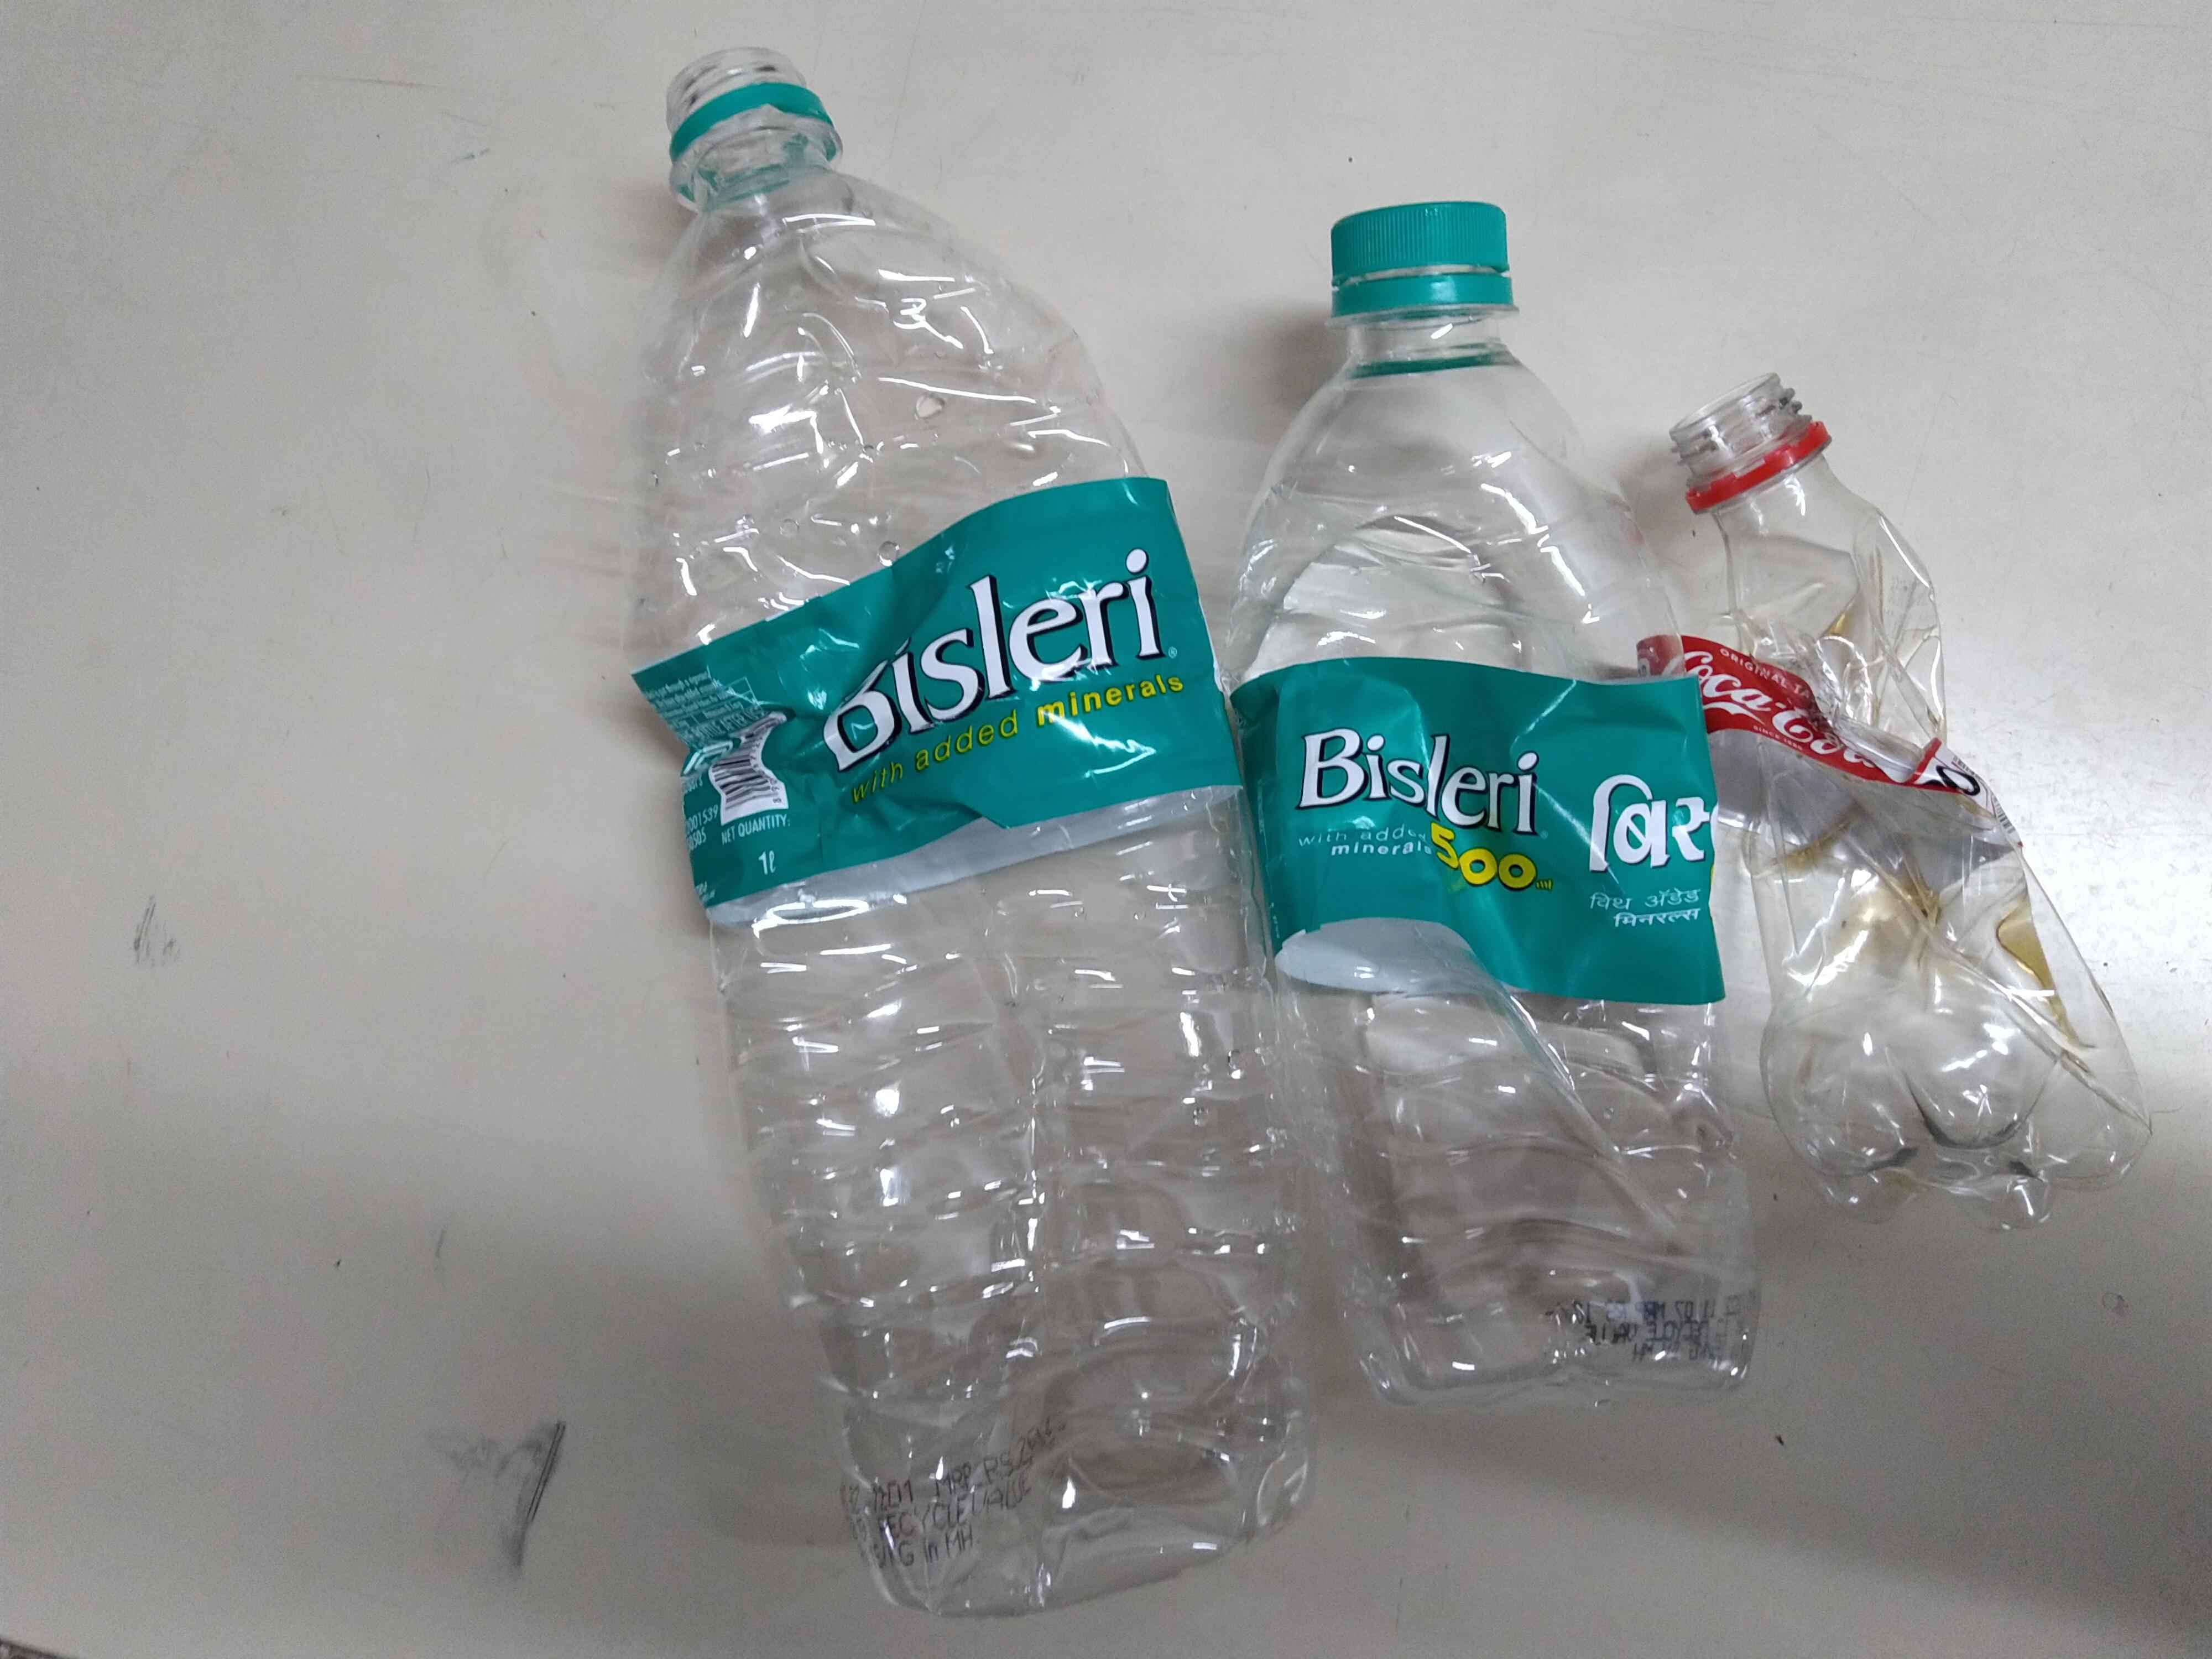Bisleri: (702, 561, 1191, 896), (1275, 713, 1712, 917)
Coca-Cola: (1676, 652, 1888, 777)
